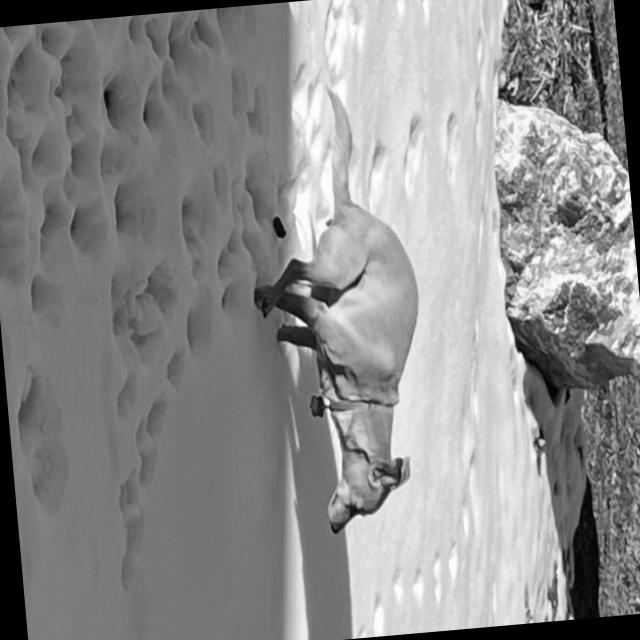squatting: (230, 78, 444, 544)
